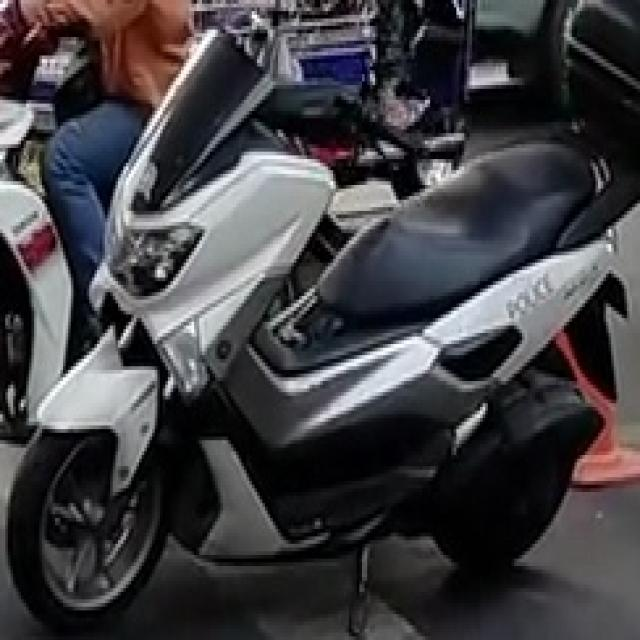door: (0, 0, 637, 632), (559, 0, 637, 444)
tyre: (5, 418, 168, 629)
